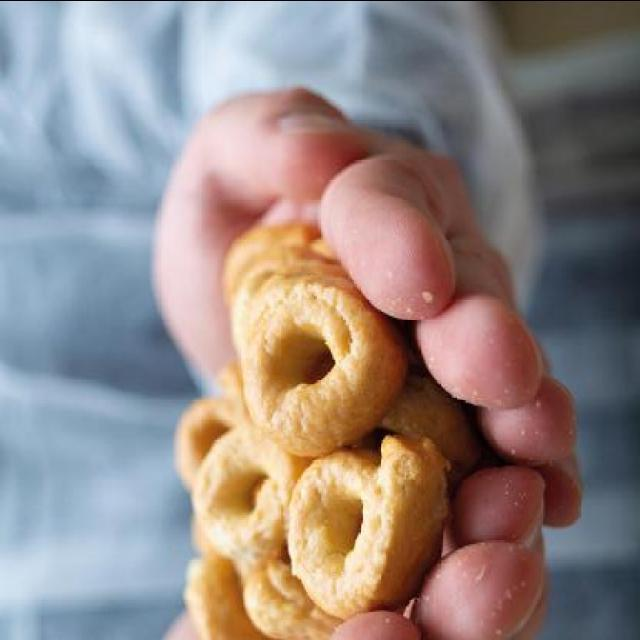Taralli: (174, 202, 454, 634)
